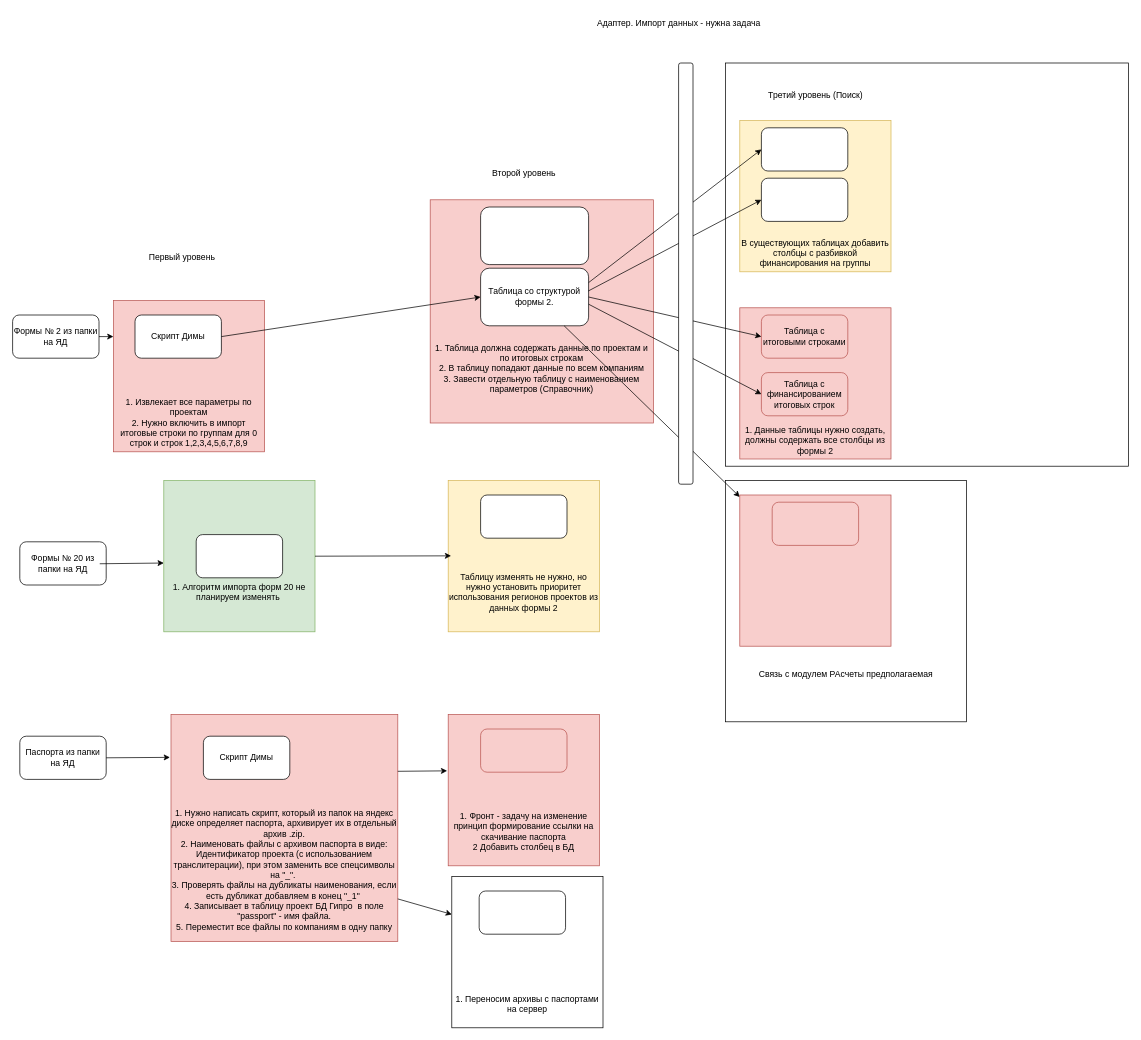
The diagram is 1141 pixels wide and 1040 high, and some of its shapes have lost their labels. Here are the shapes that lost their labels. From the top down, the centre of each, then its label:
(804,149): Таблица с данными по проектам
(804,199): Таблица с финансированием по проектам
(534,235): Таблица со наименованием полей из формы 2. и название поля из второй таблицы
(523,516): Таблица с данными унцов по проектам
(815,523): Таблица с данными модуля Расчеты
(239,556): Текущий алгоритм импорта формы 20
(523,750): Таблица prpject
(522,912): Папка на прод сервере
